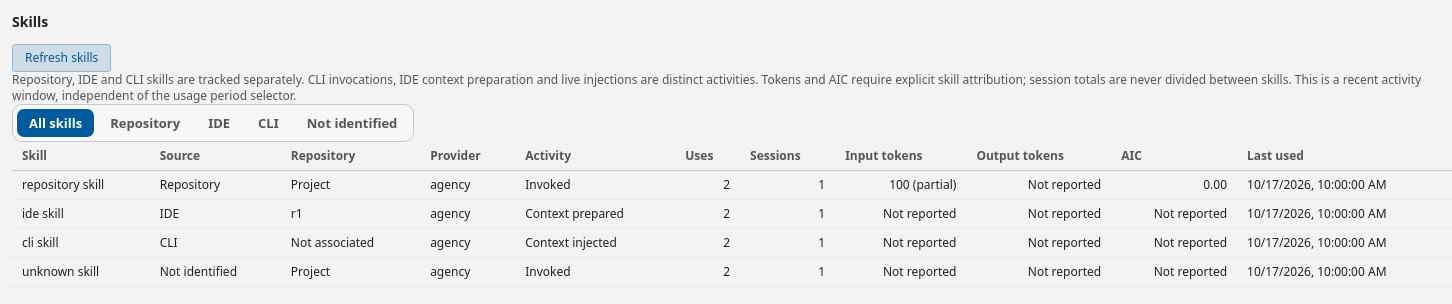
Test: separates sources and context activities and displays only attributable billing with explicit partial coverage
Expected: the text "100 (partial)" is shown, x1=835 y1=171 x2=966 y2=200
Expected: the text "0.00" is shown, x1=1111 y1=171 x2=1237 y2=200
Click the button "CLI" at [268, 123], box x1=246 y1=109 x2=291 y2=137
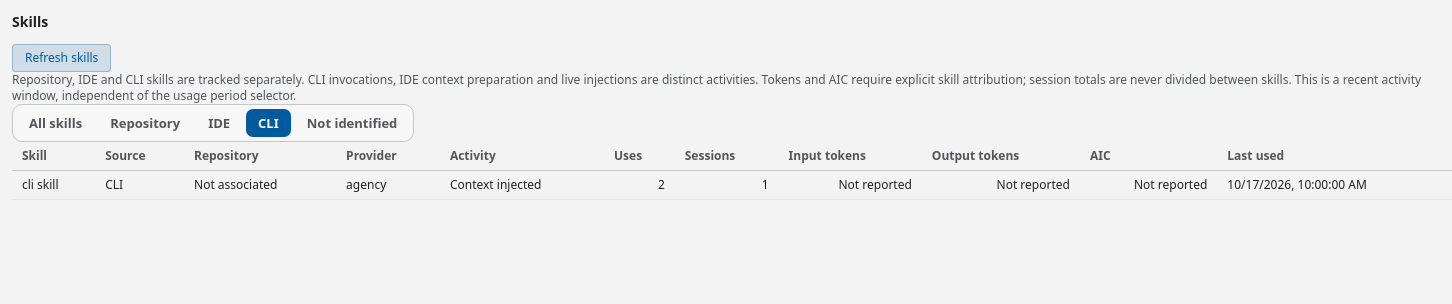
Expected: the text "cli skill" is shown, x1=12 y1=171 x2=95 y2=200
Expected: the text "repository skill" is gone
Click the button "All skills" at [56, 123], box x1=17 y1=109 x2=94 y2=137
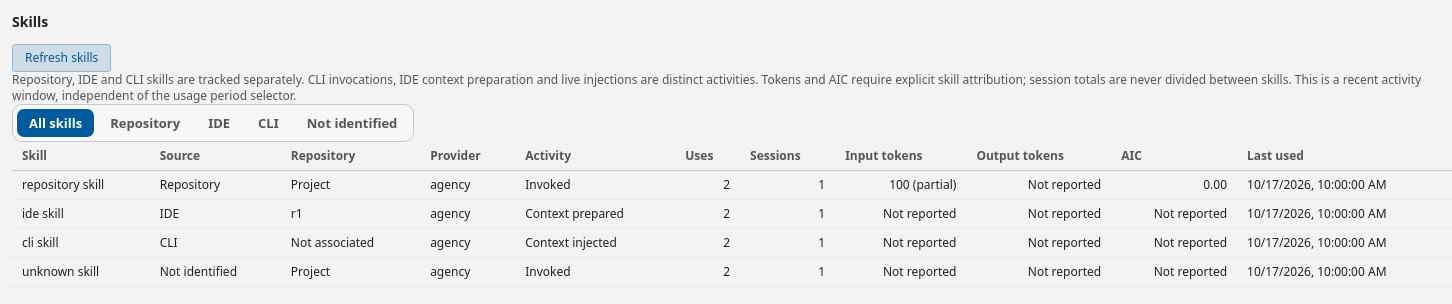
Expected: the text "repository skill" is shown, x1=12 y1=171 x2=150 y2=200
